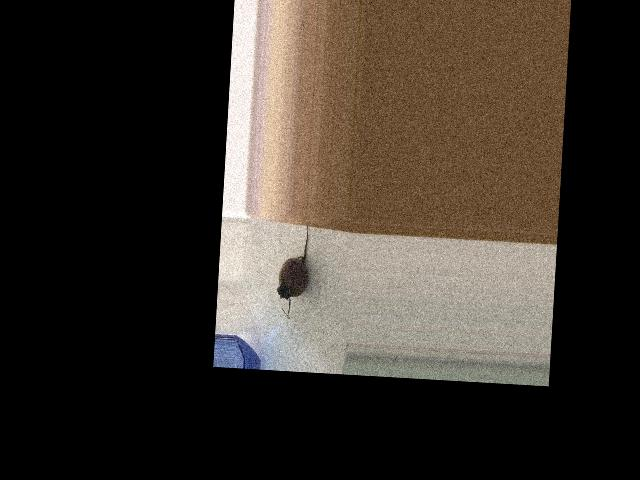beet: (276, 221, 311, 319)
